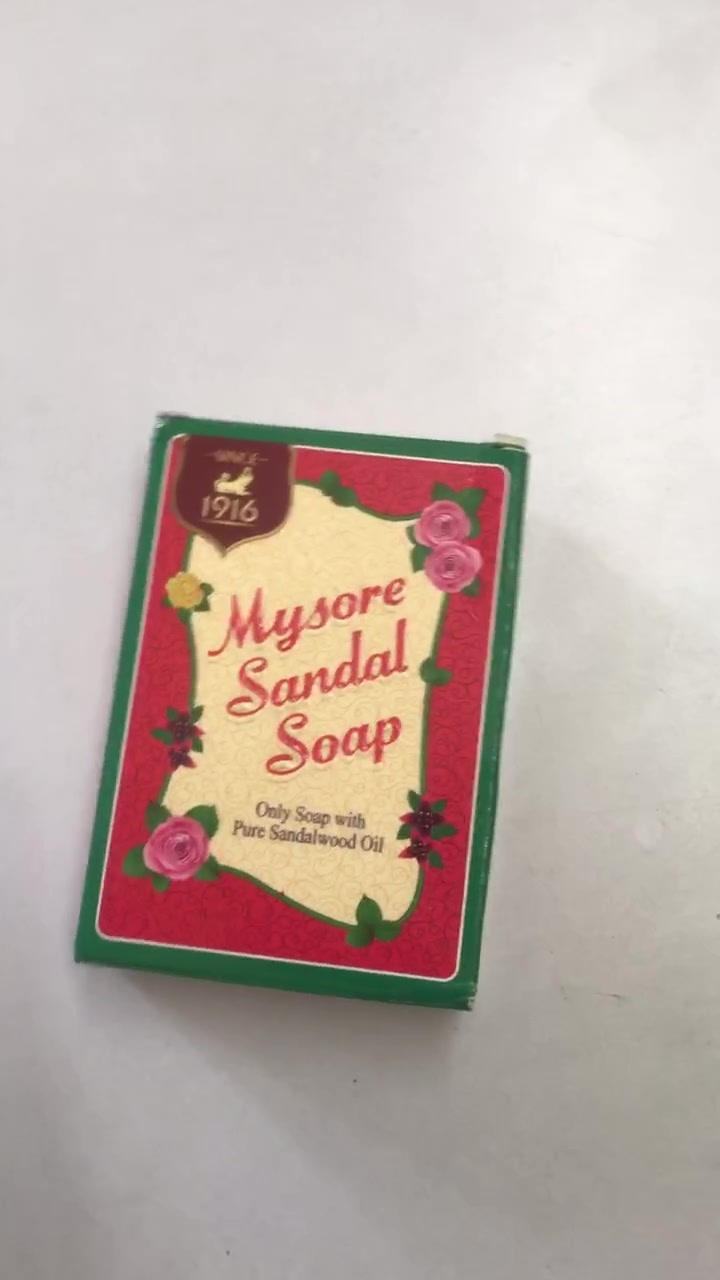mysore sandal soap: (73, 413, 537, 1012)
